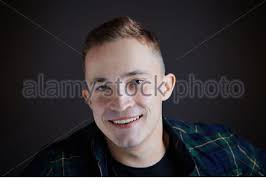white_male: (83, 45, 163, 147)
